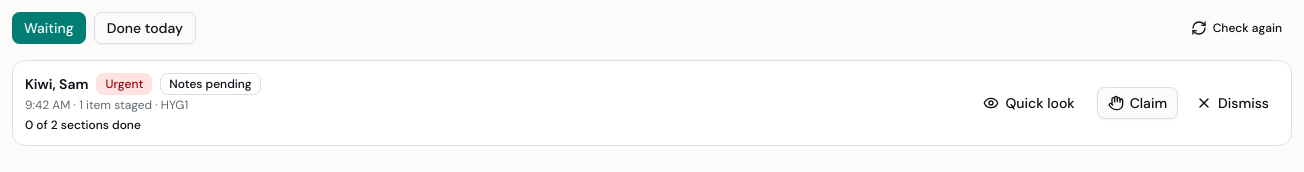
Test case: the Checkout inbox › Claim marks the row claimed and keeps it waiting
Click the button with test id "checkout-row-claim" at coordinates (1137, 103), box [1097, 87, 1178, 119]
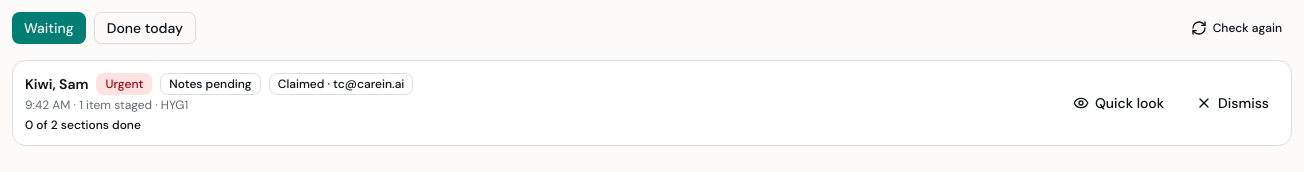
expect the button with test id "checkout-row" shows "Claimed · tc@carein.ai": met, box [12, 60, 1292, 146]
